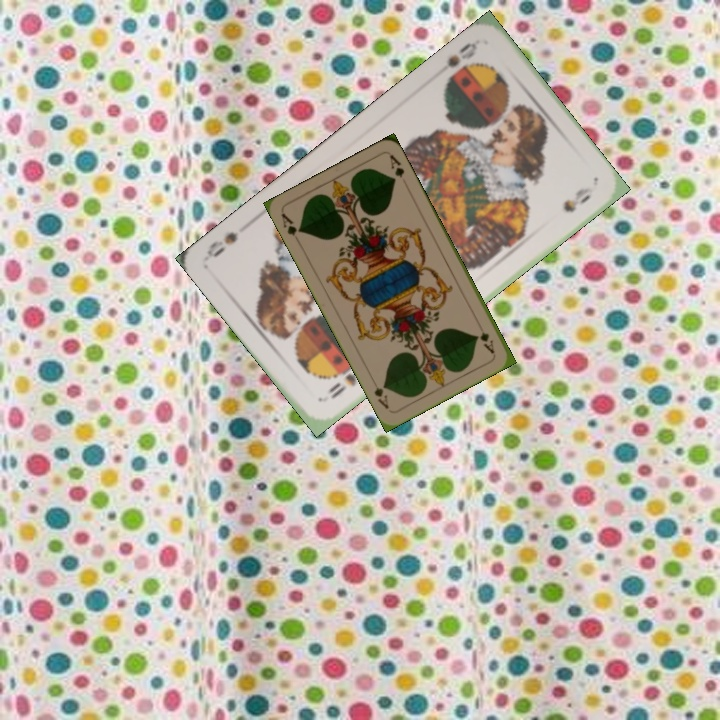GA: (277, 209, 305, 239), (476, 328, 497, 356)
SO: (443, 38, 480, 70), (324, 369, 359, 402)
